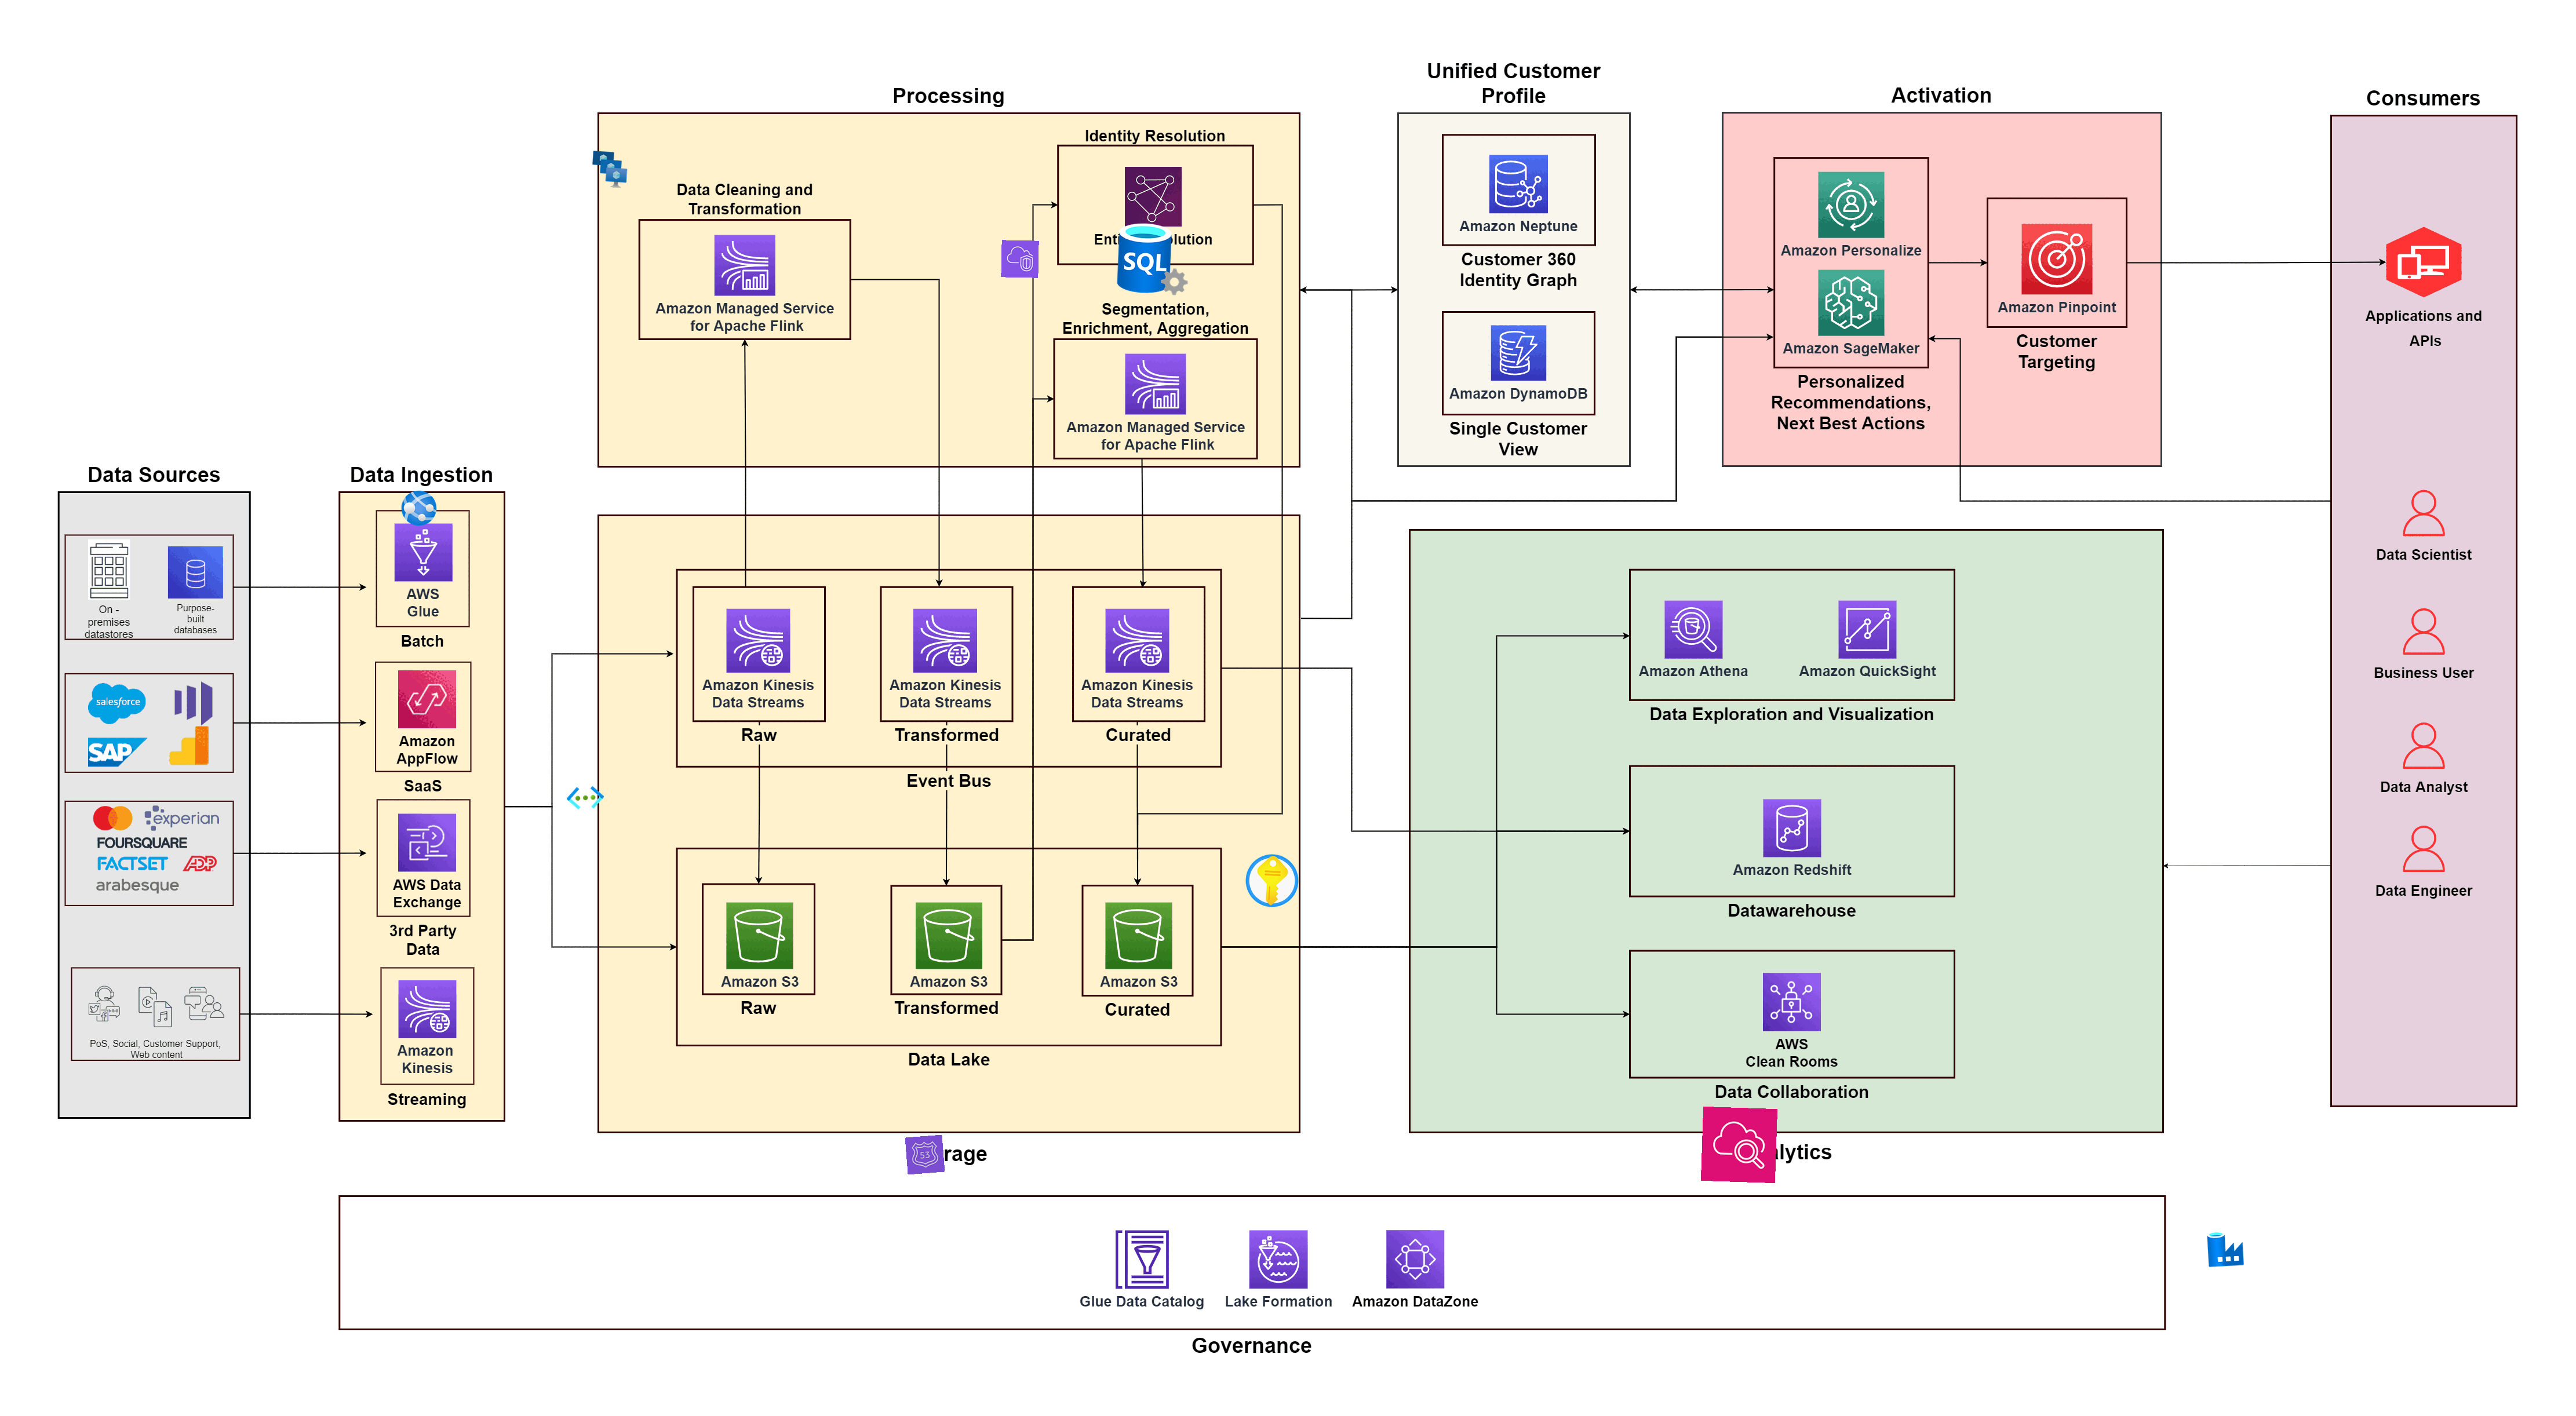aws_amazon_cloudwatch: (1700, 1106, 1777, 1184)
aws_amazon_route_53: (905, 1135, 945, 1175)
aws_amazon_virtual_private_cloud: (1001, 241, 1039, 277)
azure_app_services: (399, 488, 440, 528)
azure_data_factories: (2206, 1229, 2245, 1268)
azure_key_vaults: (1242, 851, 1301, 910)
azure_sql_server: (1114, 220, 1193, 298)
azure_virtual_networks: (565, 778, 605, 818)
azure_vm_scale_sets: (589, 148, 630, 188)
